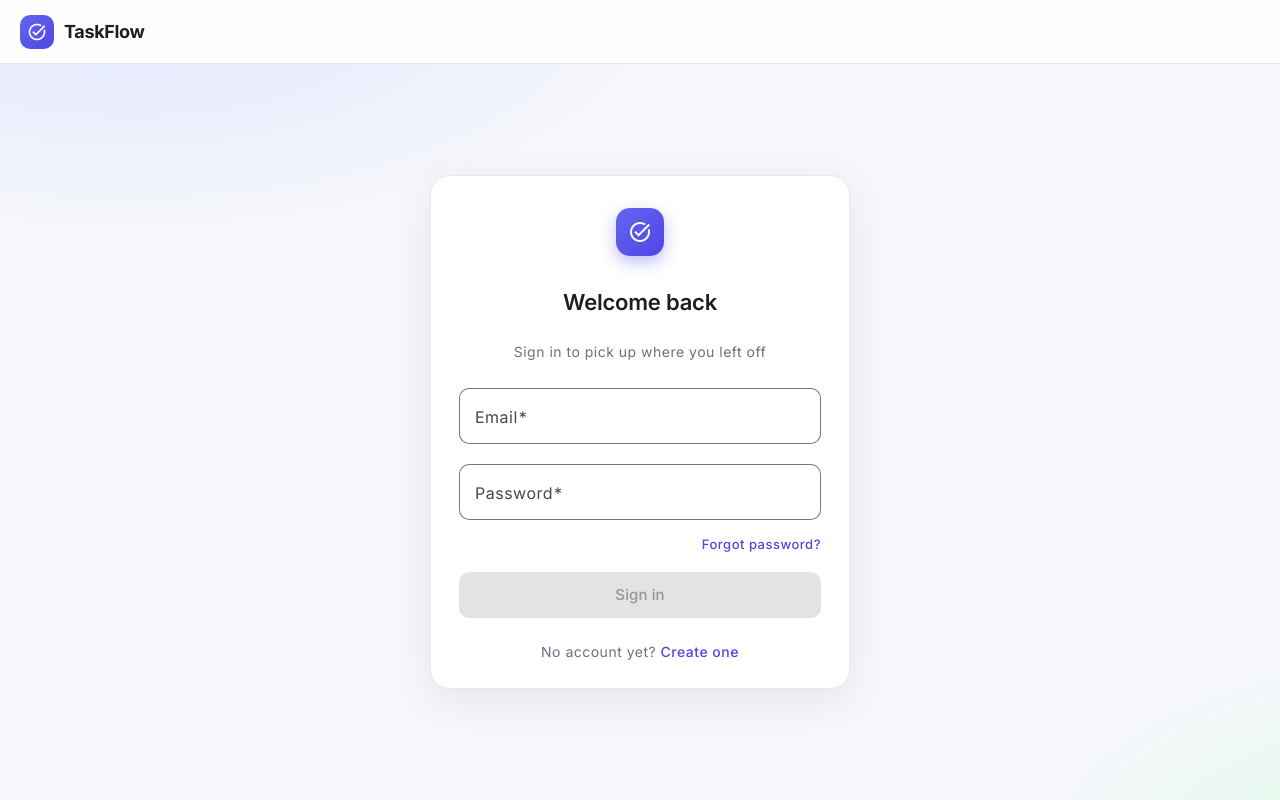
Test case: Authentication › shows an error on bad credentials
Type "alice@test.com" into the field with test id "email" at coordinates (640, 416), box [475,404,805,428]
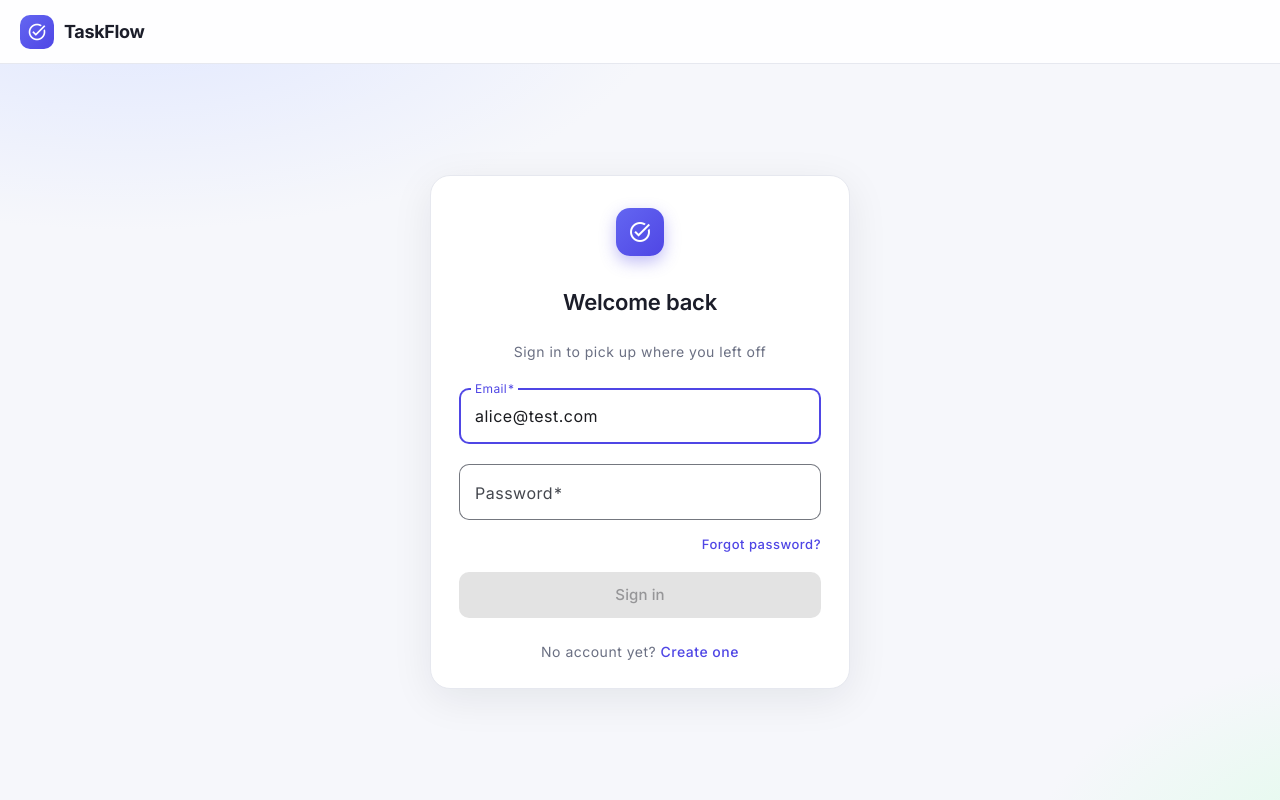
Type "wrongpass" into the password field with test id "password" at coordinates (640, 492), box [475,480,805,504]
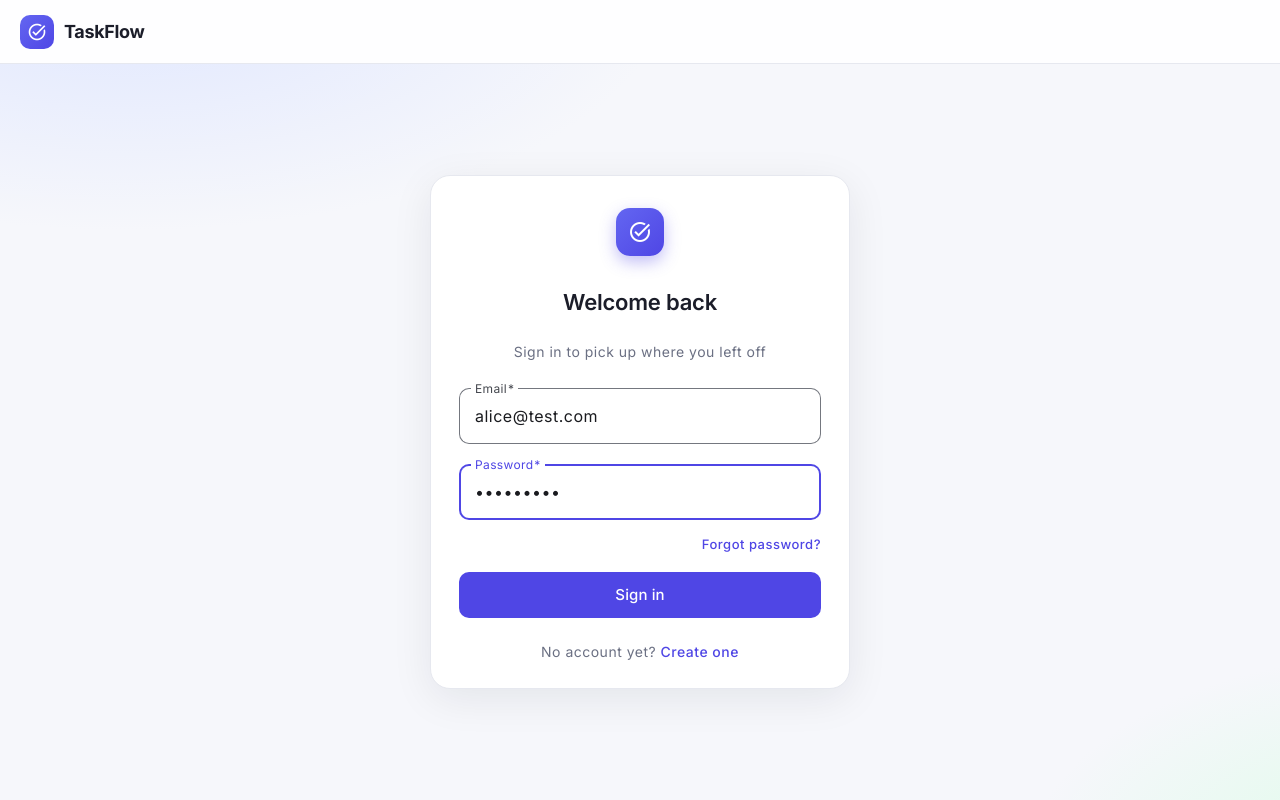
Click the button with test id "submit" at coordinates (640, 595), box [459,572,821,618]
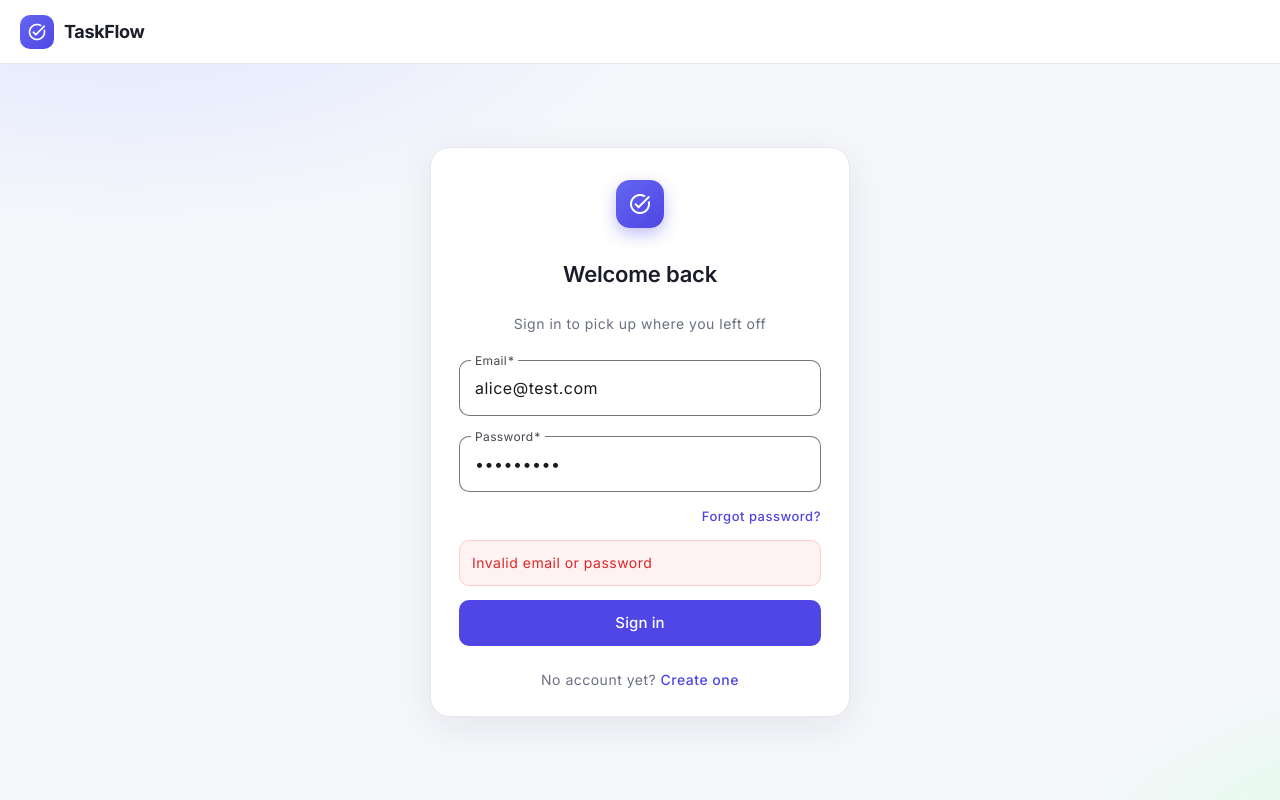
Check: the text with test id "error" reads "Invalid email or password", box [472,554,652,571]
